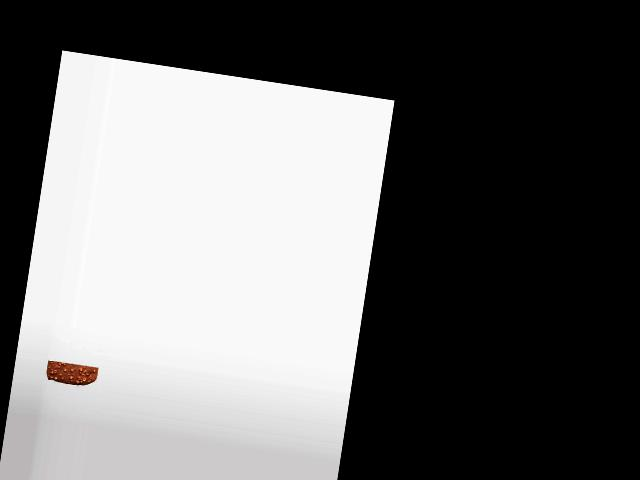chocolate: (44, 358, 98, 391)
